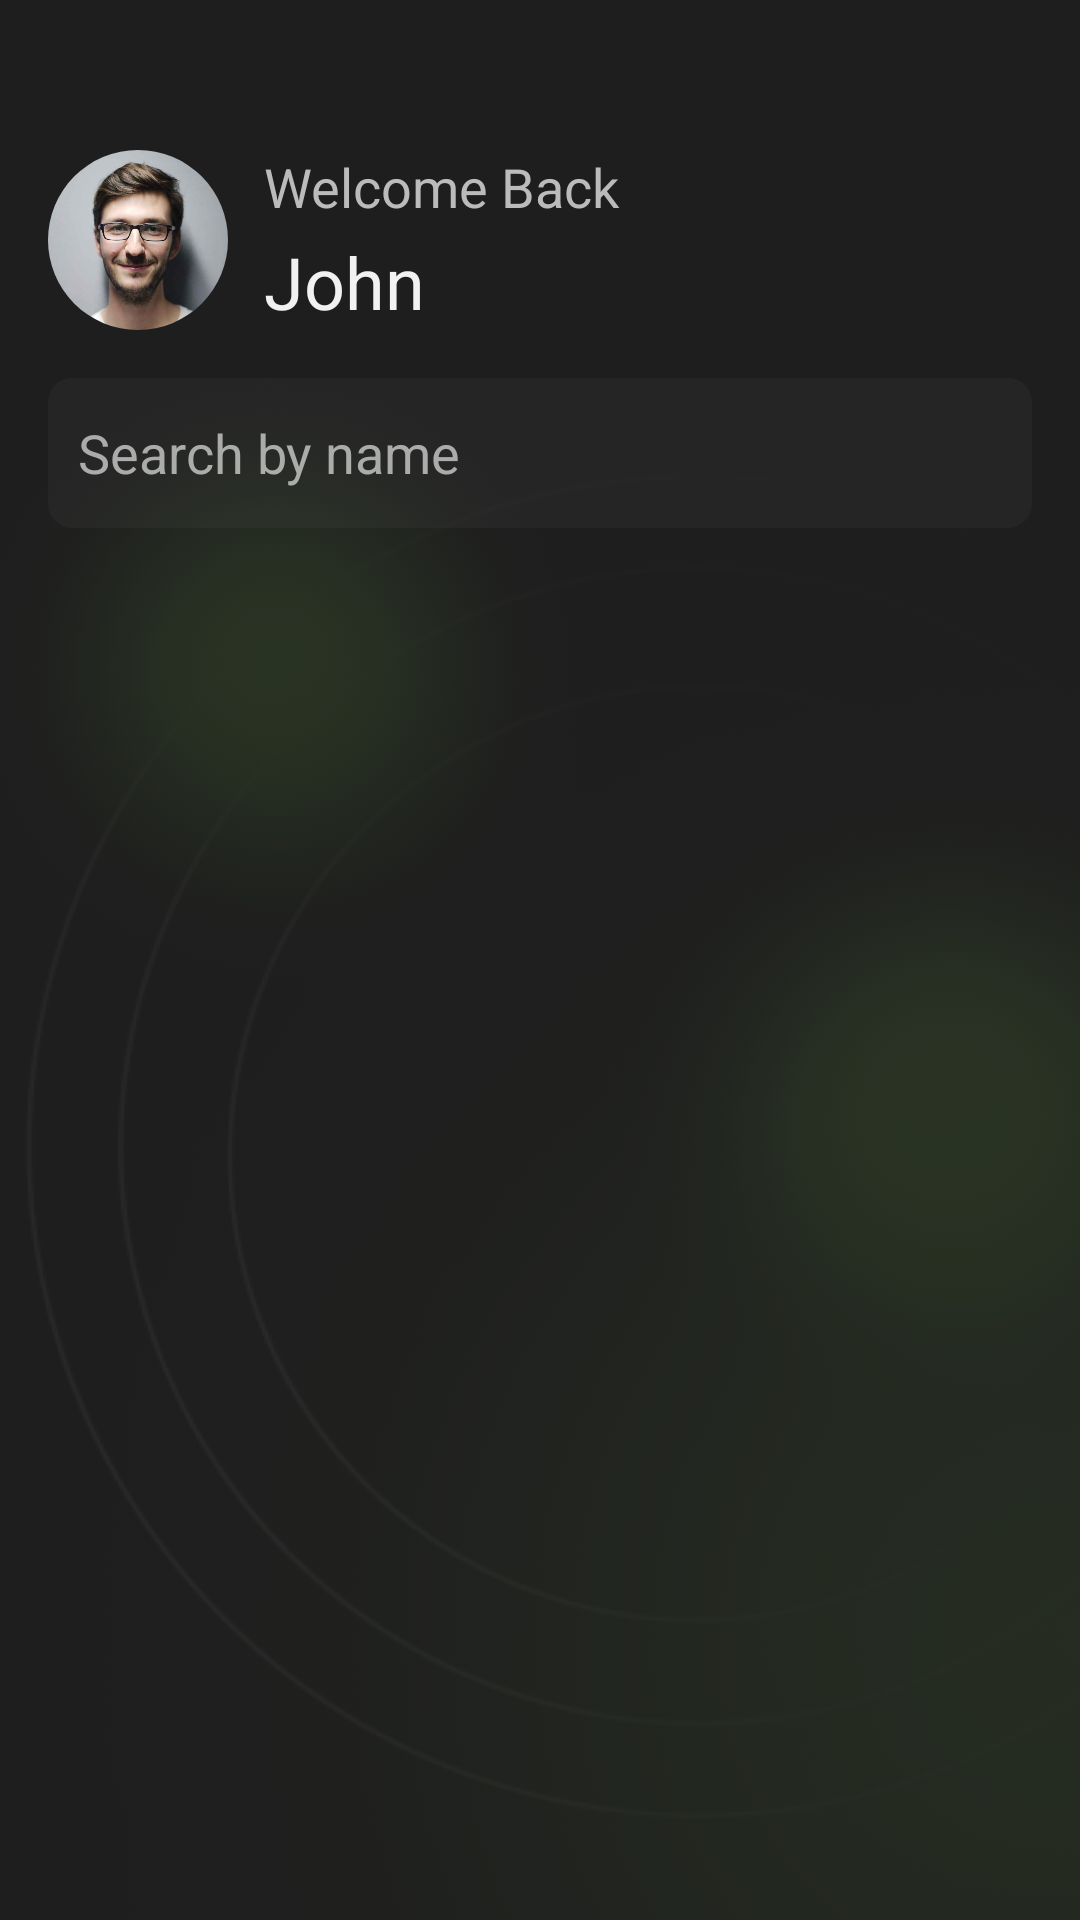

Where icons sit on this 1080px×1920px app screen, as bbox=[x1, y1, x2, y2]:
profile: bbox=[48, 150, 228, 330]
